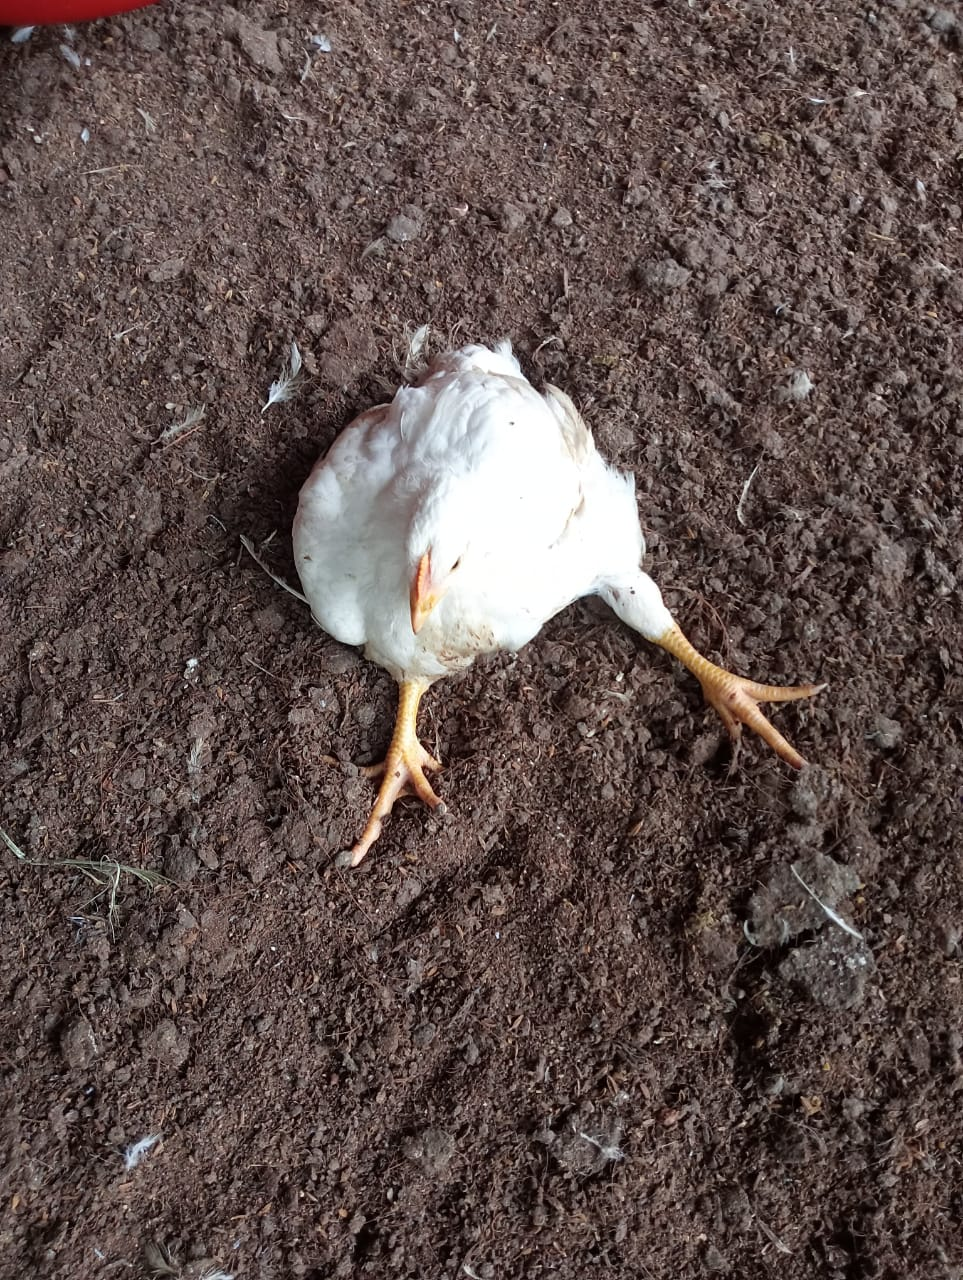Unhealthy: (276, 327, 829, 876)
